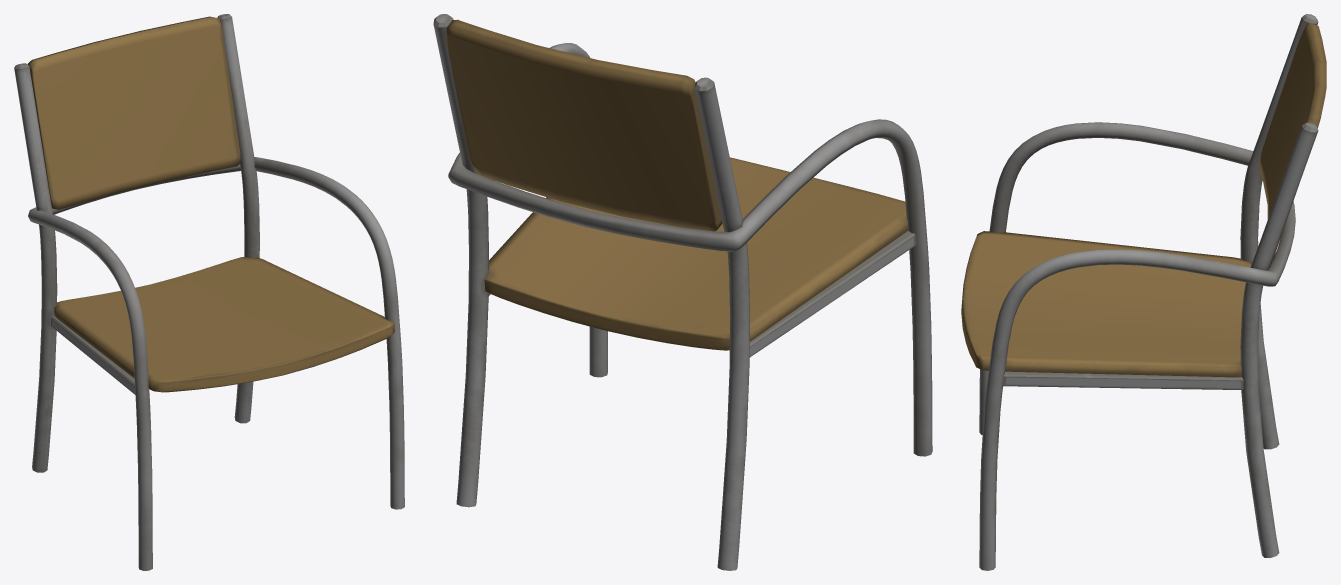
Rendered from SM_Chaie.fbx.
3 renders of one model, left to right at view 1: azimuth 30°, elevation 25°; view 2: azimuth 150°, elevation 25°; view 3: azimuth 270°, elevation 25°, orthographic. The views are drawn at different scales.
Visible parts, largest first — view 1: SM_Chaie_LOD0; view 2: SM_Chaie_LOD0; view 3: SM_Chaie_LOD0.
Boxes of the visible parts, bbox=[...] form: SM_Chaie_LOD0: bbox=[14, 14, 404, 570]; SM_Chaie_LOD0: bbox=[433, 14, 932, 570]; SM_Chaie_LOD0: bbox=[961, 14, 1326, 570].
Bounding box in the file's own units: 57 × 62.1 × 80.93.
Materials: 1 (1 with a texture image).
